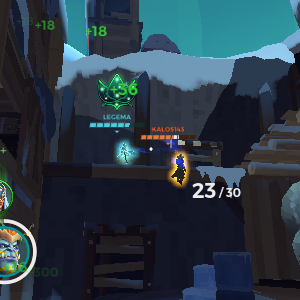model: (168, 150, 188, 189)
